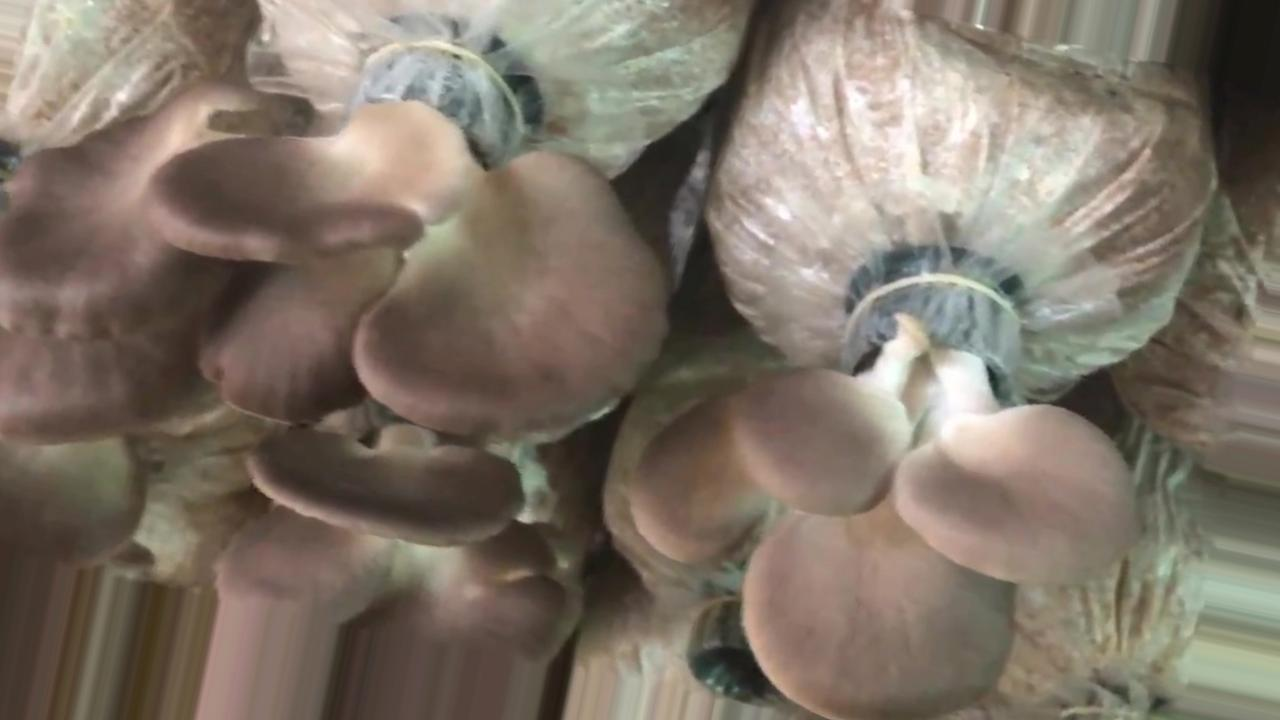nam: (145, 39, 660, 541), (630, 272, 1134, 717), (1, 79, 312, 444), (200, 506, 580, 720), (1, 435, 144, 572)
